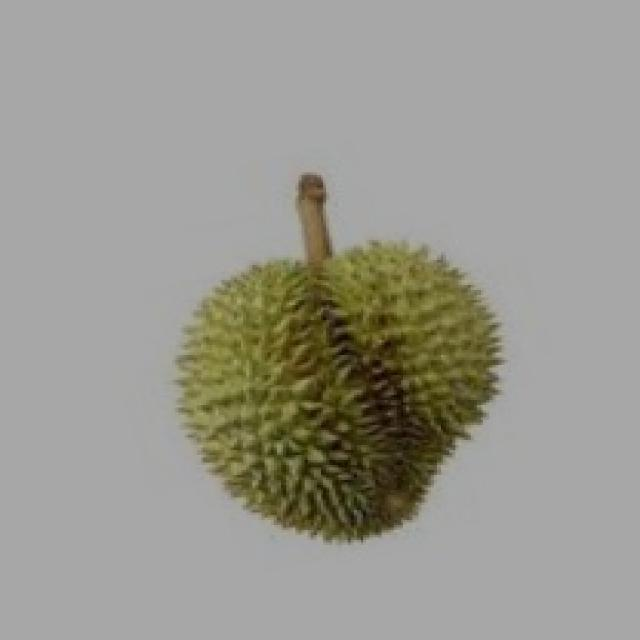fruit: (133, 220, 542, 575)
